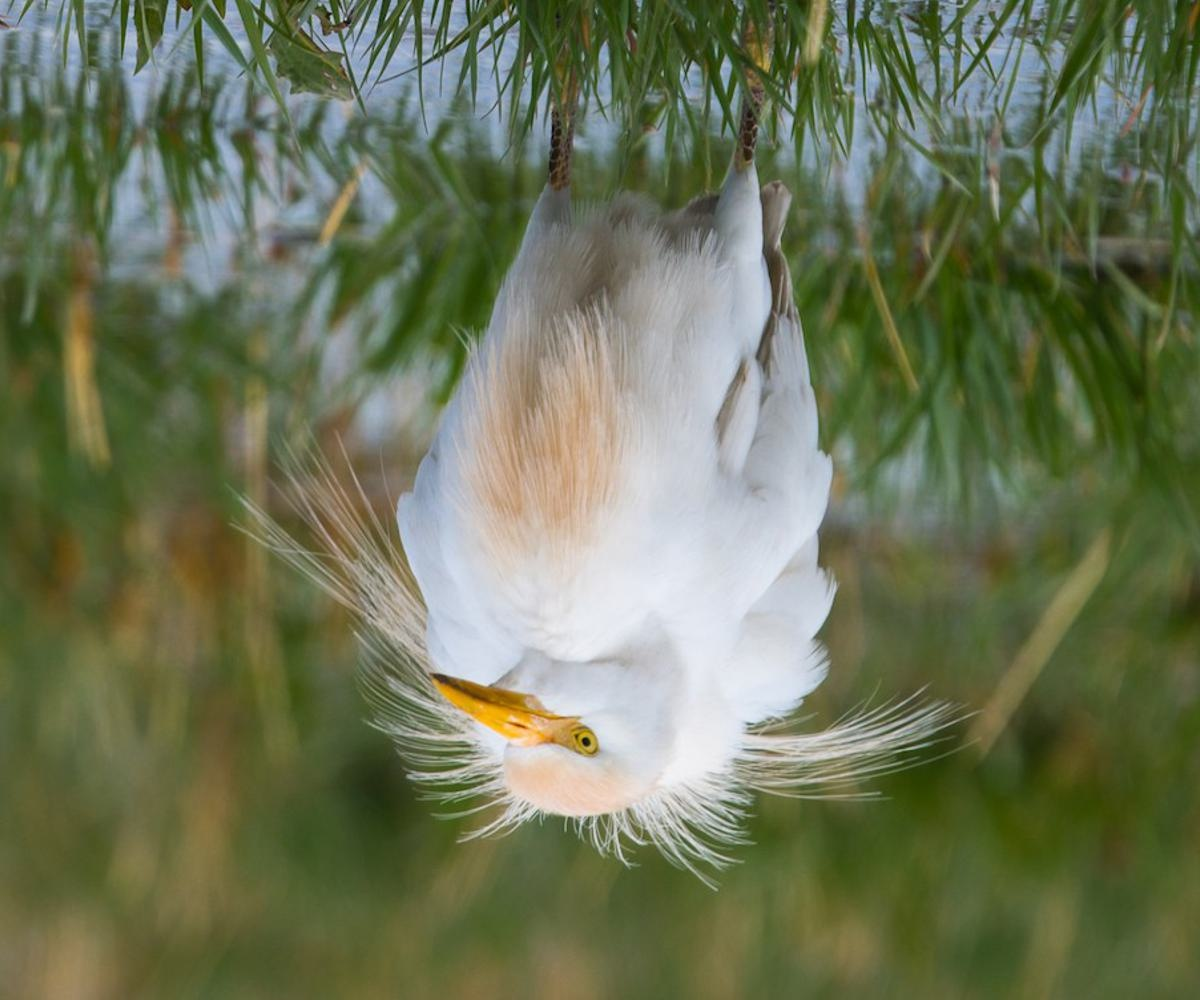egret: (330, 130, 882, 882)
